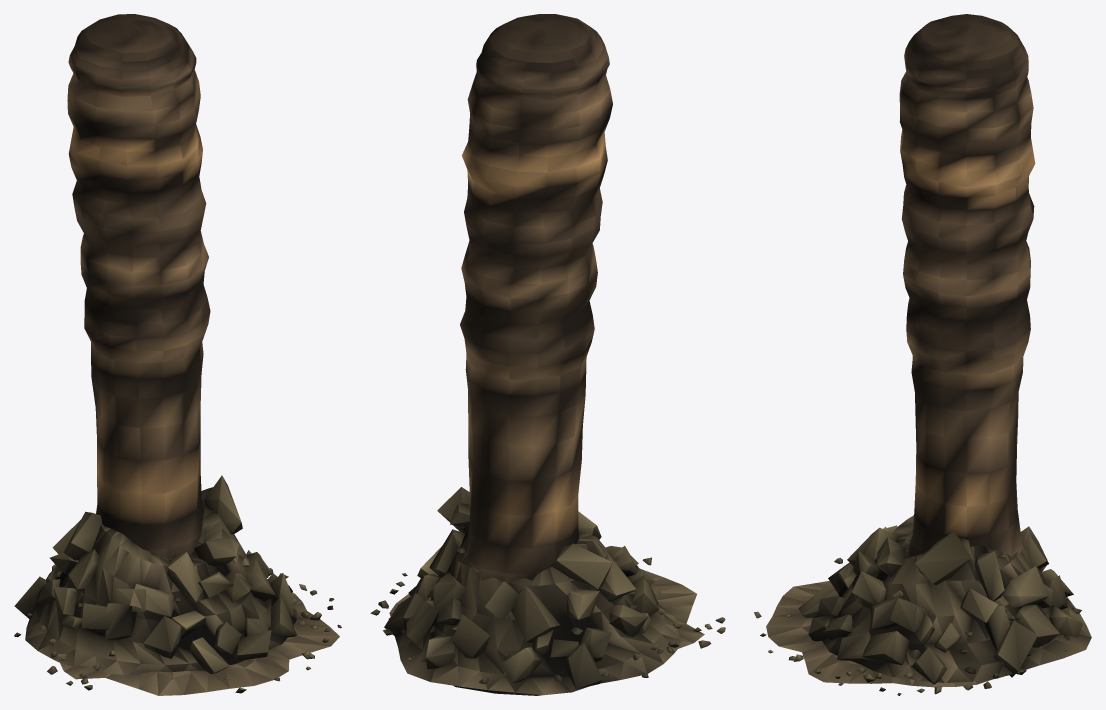
Rendered from TarSpire09.glb.
3 views of the same model, side by side, from view 1: azimuth 30°, elevation 25°; view 2: azimuth 150°, elevation 25°; view 3: azimuth 270°, elevation 25° (orthographic). The views are drawn at different scales.
Parts seen in each view (by area): view 1: TarSpire09; view 2: TarSpire09; view 3: TarSpire09.
Boxes of the visible parts, box(x1,y1,x2,y2) form: TarSpire09: box(14, 14, 341, 695); TarSpire09: box(370, 14, 725, 695); TarSpire09: box(754, 14, 1091, 695).
Bounding box in the file's own units: 5.48 × 11.04 × 5.56.
